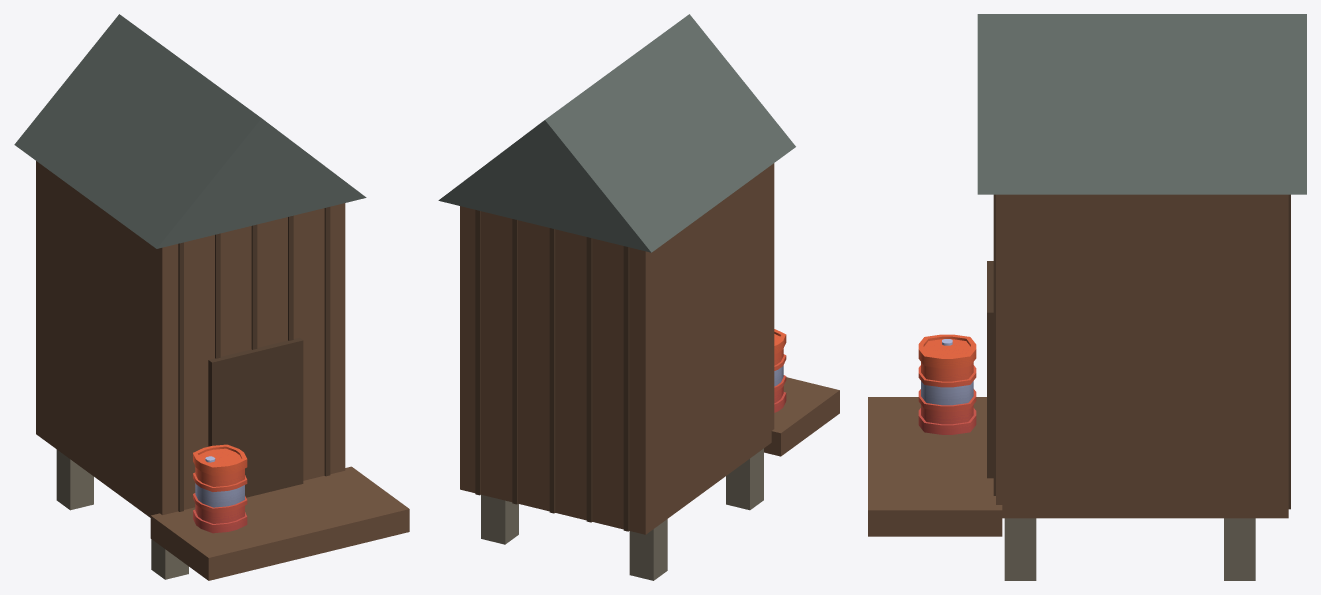
Rendered from facility-granary.glb.
3 views of the same model, side by side, from view 1: azimuth 30°, elevation 25°; view 2: azimuth 150°, elevation 25°; view 3: azimuth 270°, elevation 25° (orthographic). The views are drawn at different scales.
Visible parts, largest first — view 1: Original box (×10), Original gable, barrel; view 2: Original box (×10), Original gable, barrel; view 3: Original box (×6), Original gable, barrel.
Boxes of the visible parts, x1=… form: Original box (×10): x1=36, y1=161, x2=409, y2=580; Original gable: x1=14, y1=14, x2=366, y2=248; barrel: x1=193, y1=444, x2=247, y2=533; Original box (×10): x1=460, y1=163, x2=839, y2=580; Original gable: x1=438, y1=14, x2=795, y2=252; barrel: x1=774, y1=329, x2=786, y2=412; Original box (×6): x1=868, y1=194, x2=1290, y2=580; Original gable: x1=977, y1=14, x2=1306, y2=194; barrel: x1=918, y1=334, x2=976, y2=434.
Size of the model in its own units: 1.15 by 2.35 by 1.8.
5 materials, 1 textured.
